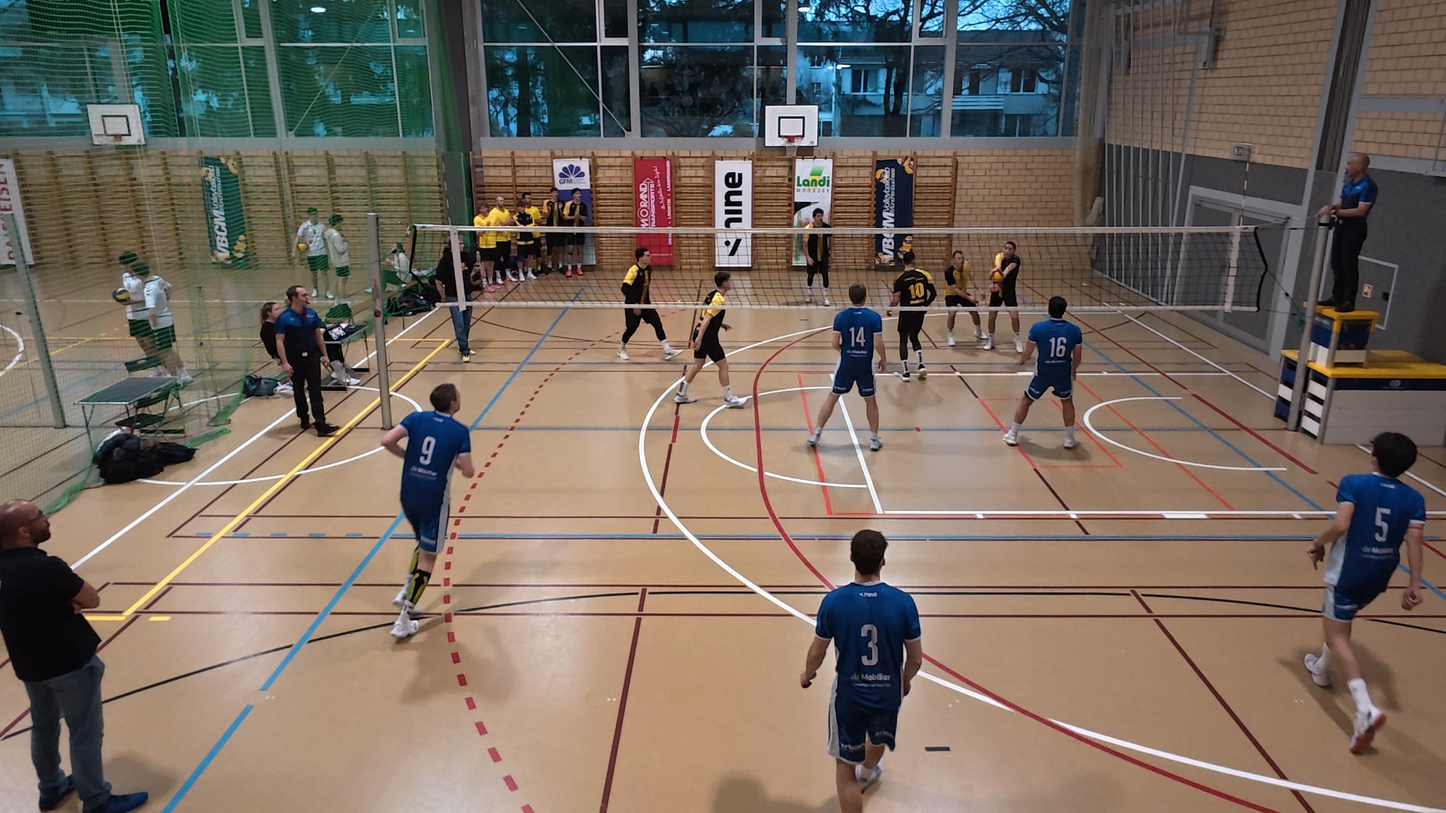ricezione: (982, 240, 1024, 354)
